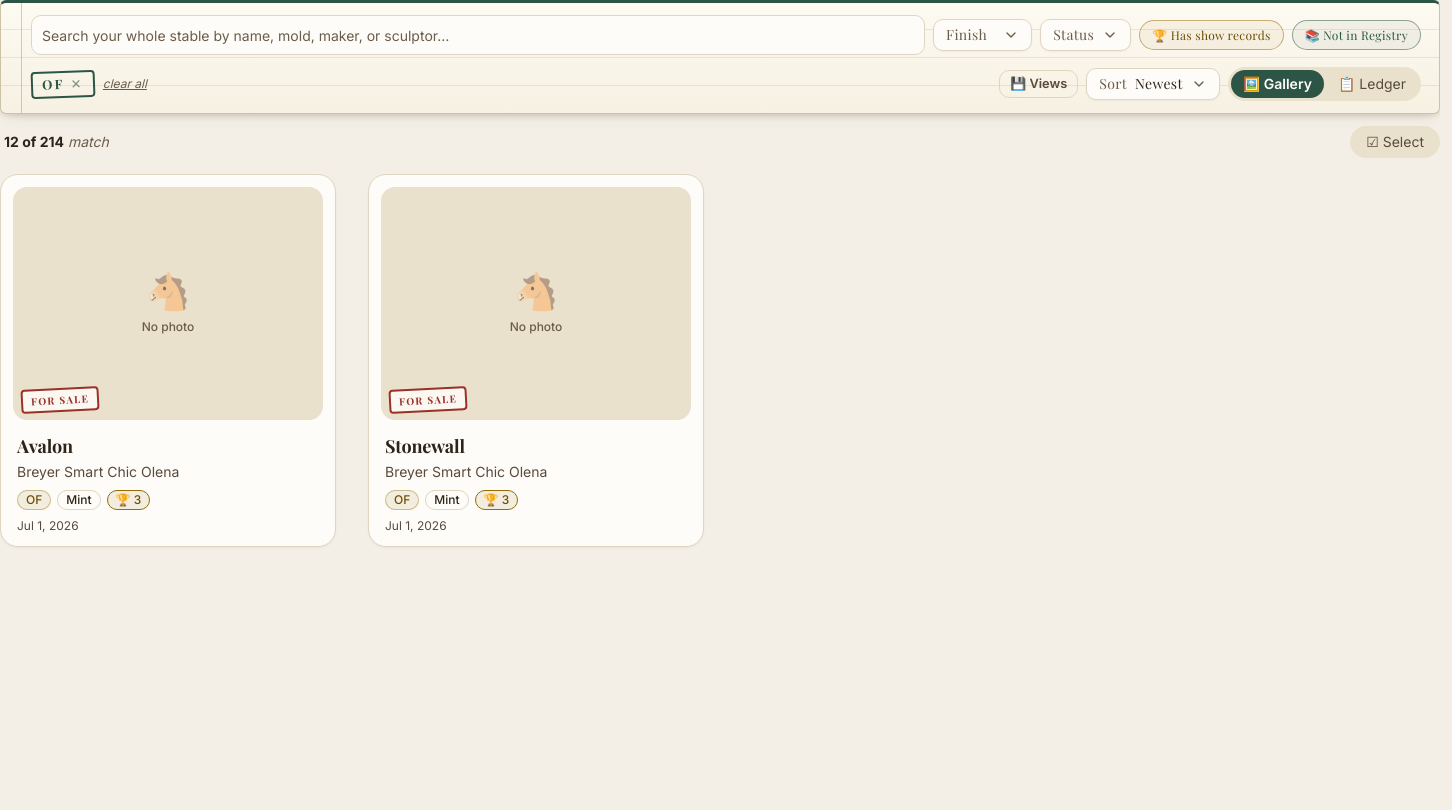
Test: StableBrowser › shows the over-cap notice when the match set exceeds the cap
Click the button "☑ Select". click: point(1395, 142)
box: left=1350, top=126, right=1440, bottom=158
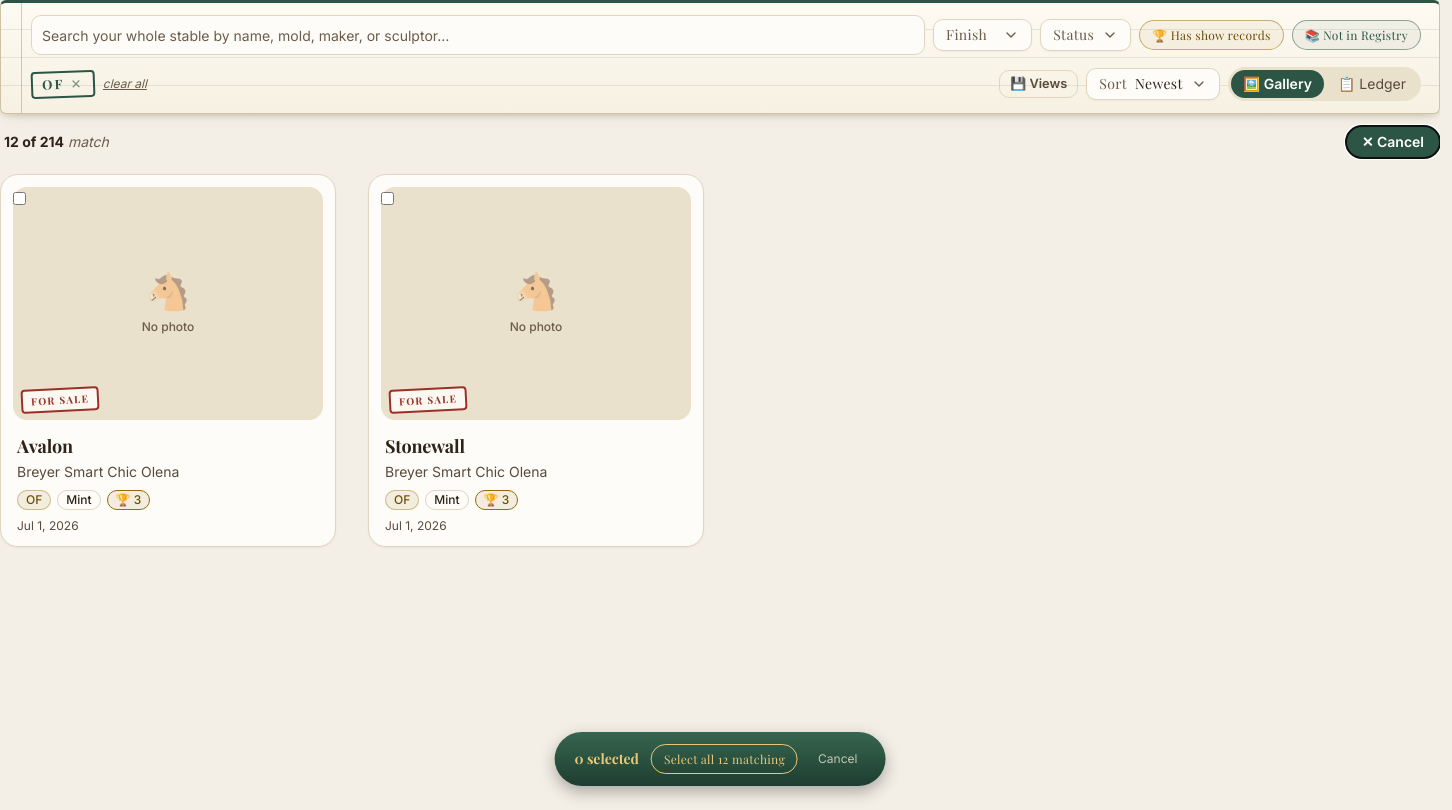
Click the button "Select all 12 matching". click: point(724, 759)
box: left=651, top=744, right=798, bottom=774
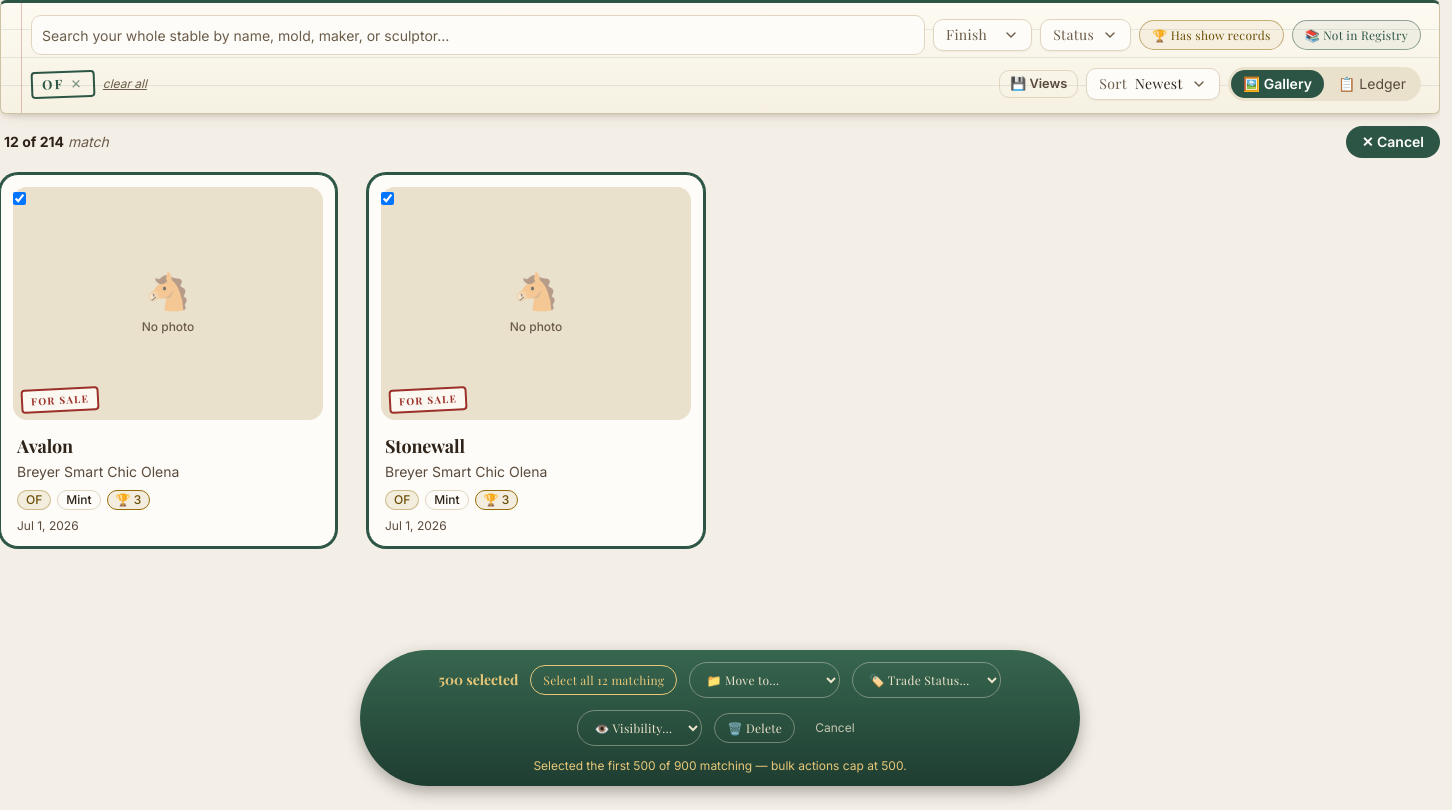
expect the text "Selected the first 500 of 900 matching — bulk actions cap at 500." is shown: met, box left=533, top=758, right=907, bottom=773
